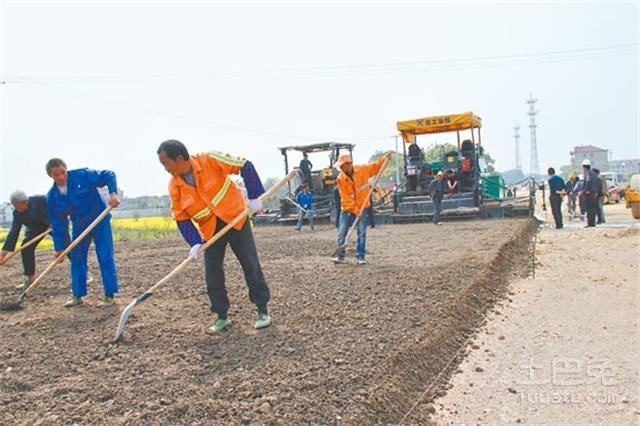none: (155, 139, 192, 180), (44, 154, 68, 186), (7, 189, 29, 215)
white: (580, 158, 592, 171)
yellow: (336, 152, 354, 176)
